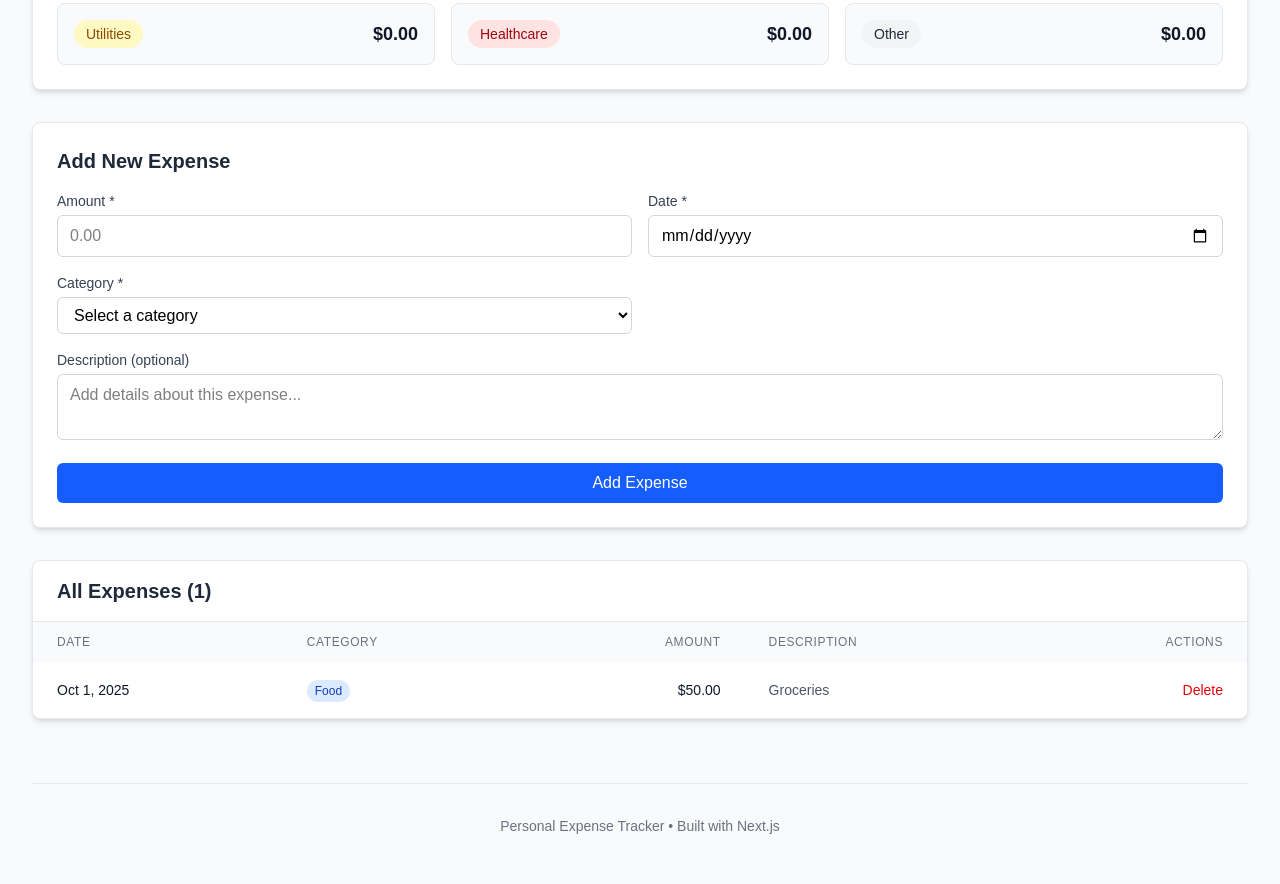
Scenario: Delete Expense Integration Test › should delete all expenses and show empty state
This screenshot has width=1280, height=884.
(page scrolled)
// Delete the expense (use getAllByRole since responsive design creates multiple buttons)
What coordinates should you click on to do the following:
click the button "Delete"
I would click on:
 (1203, 690)
Its box is [1182,680,1223,700].
(page scrolled)
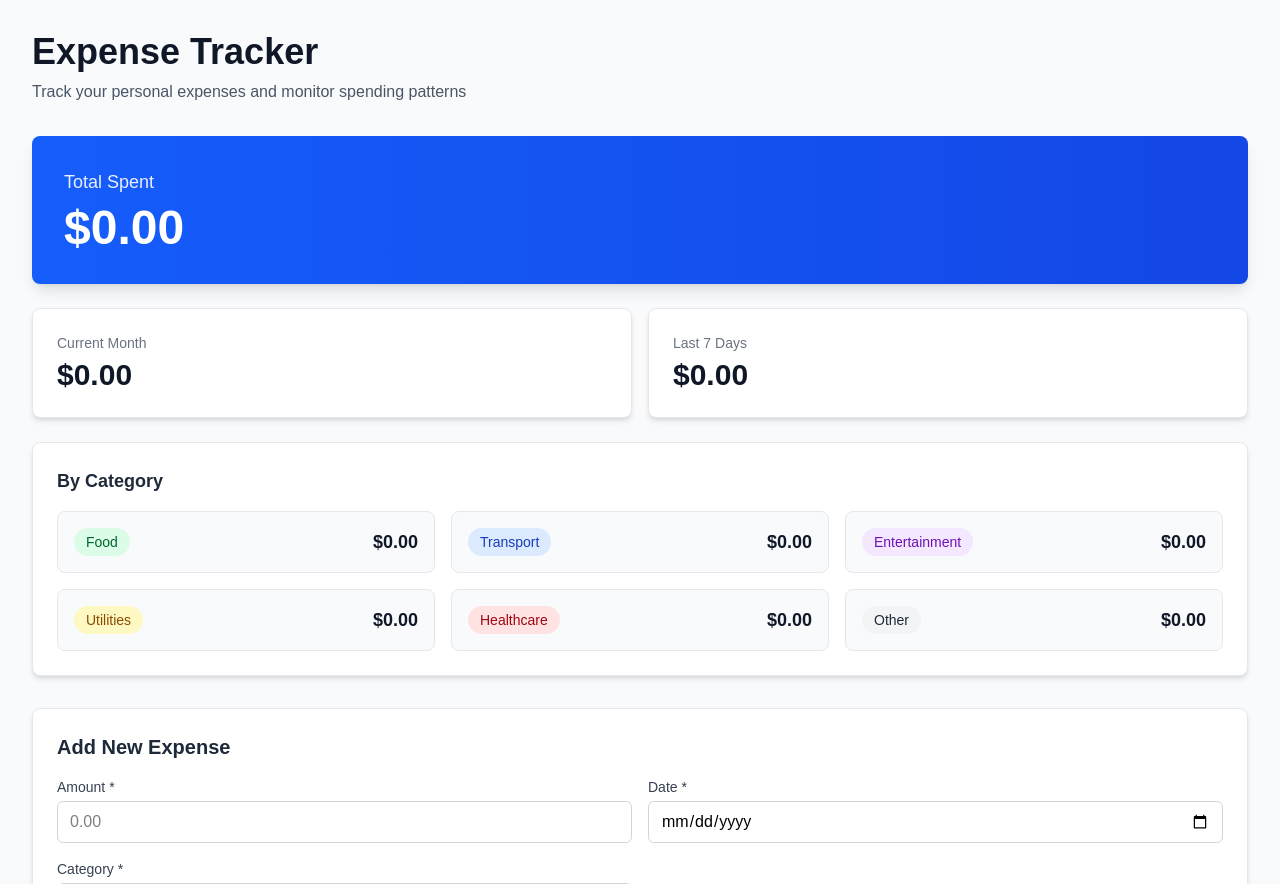
Expected: the text "$0.00" below "Total Spent" is shown, [64,201,184,254]
